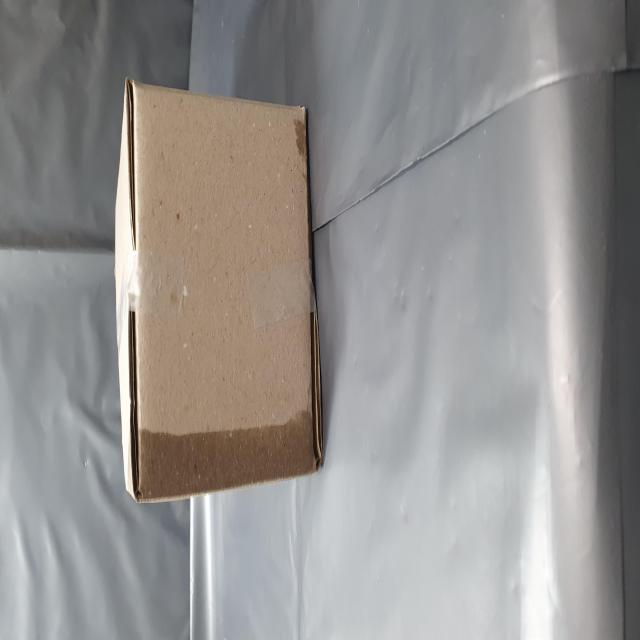wet: (82, 224, 150, 579)
